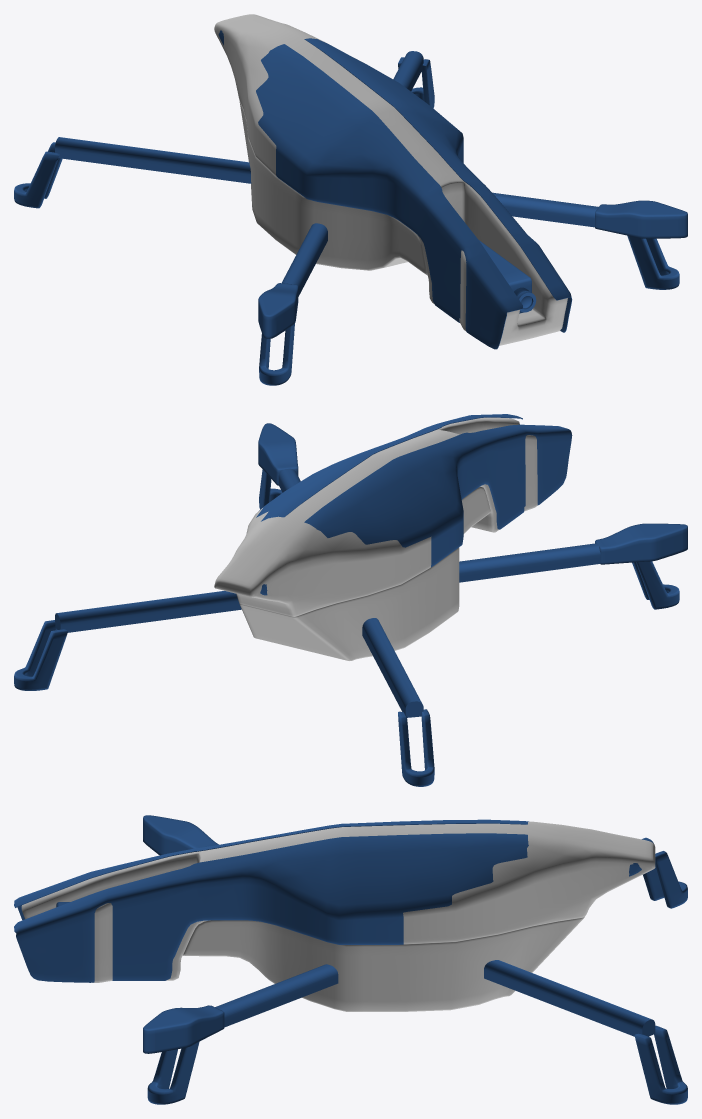
File: body_02_blue.1cf19825.glb
The picture shows the model from 3 angles, top to bottom: view 1: azimuth 30°, elevation 25°; view 2: azimuth 150°, elevation 25°; view 3: azimuth 270°, elevation 25°; orthographic projection. The views are drawn at different scales.
Visible parts, largest first — view 1: Extrude_2; view 2: Extrude_2; view 3: Extrude_2.
Part boxes in pixels (<box>): Extrude_2: <box>14,14,687,385</box>; Extrude_2: <box>14,414,687,786</box>; Extrude_2: <box>14,815,687,1104</box>.
Bounding box in the file's own units: 8.91 × 3.31 × 11.79.
